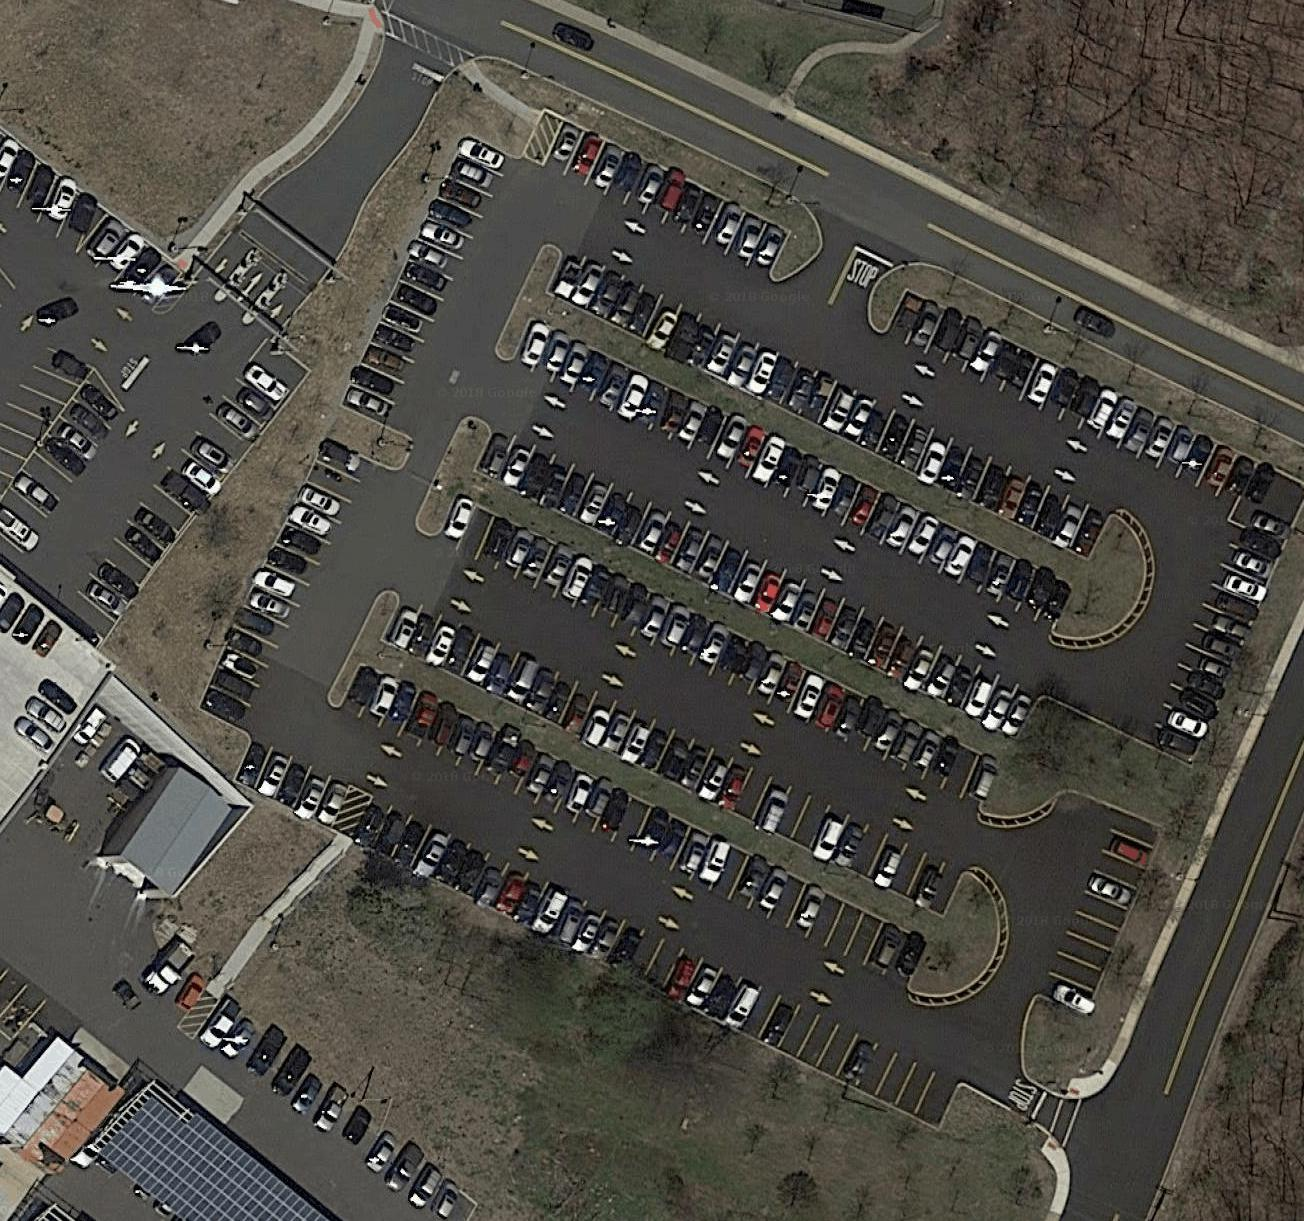parkingspot: (350, 793, 965, 1131), (337, 660, 930, 993), (380, 593, 967, 919), (472, 422, 1043, 741), (545, 247, 1116, 563), (436, 493, 1003, 810), (510, 317, 1077, 632), (880, 286, 1279, 508), (63, 355, 295, 641), (189, 993, 480, 1221), (339, 131, 517, 428), (197, 437, 377, 731), (542, 117, 792, 282), (1143, 507, 1293, 768), (1037, 804, 1165, 1019), (0, 378, 129, 558), (0, 347, 98, 501), (0, 672, 85, 823), (0, 126, 96, 258), (232, 736, 354, 832), (73, 211, 183, 314), (0, 580, 70, 663), (0, 955, 52, 1042)
